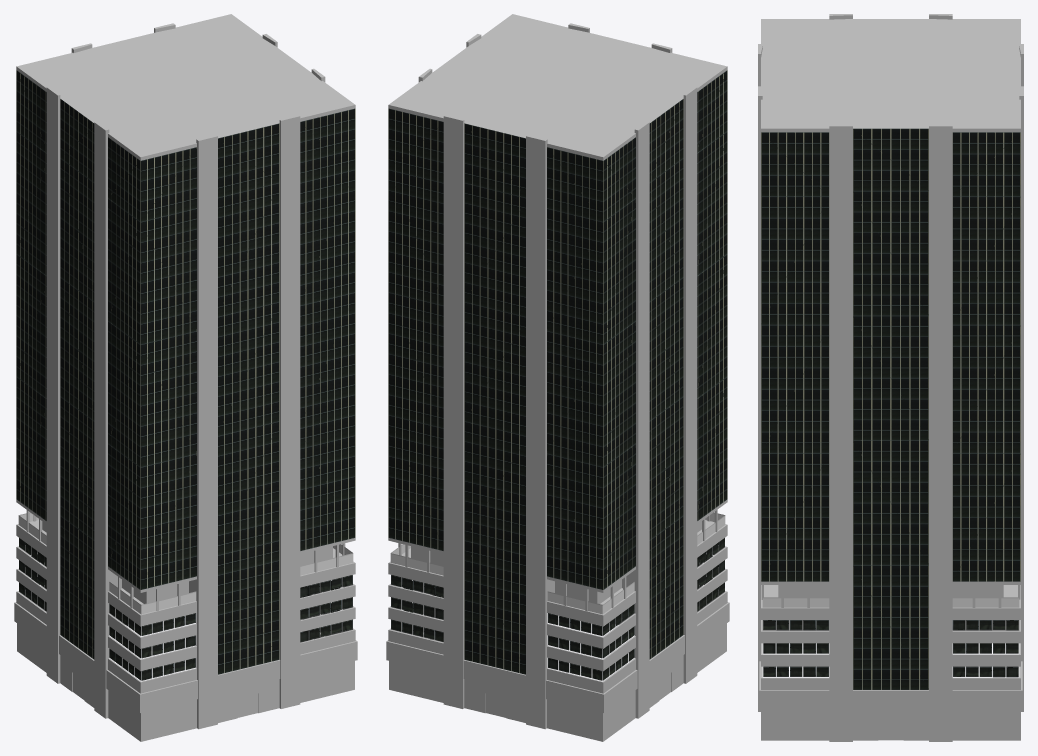
3 views of the same model, side by side, from view 1: azimuth 30°, elevation 25°; view 2: azimuth 150°, elevation 25°; view 3: azimuth 270°, elevation 25° (orthographic). The views are drawn at different scales.
Parts seen in each view (by area): view 1: EC-023; view 2: EC-023; view 3: EC-023.
Part boxes in pixels (x1,y1,x2,y2): EC-023: [14, 14, 357, 741]; EC-023: [386, 14, 729, 741]; EC-023: [758, 14, 1023, 741].
Size of what is drawn, in the model's own units: 30.87 by 78.98 by 30.89.
